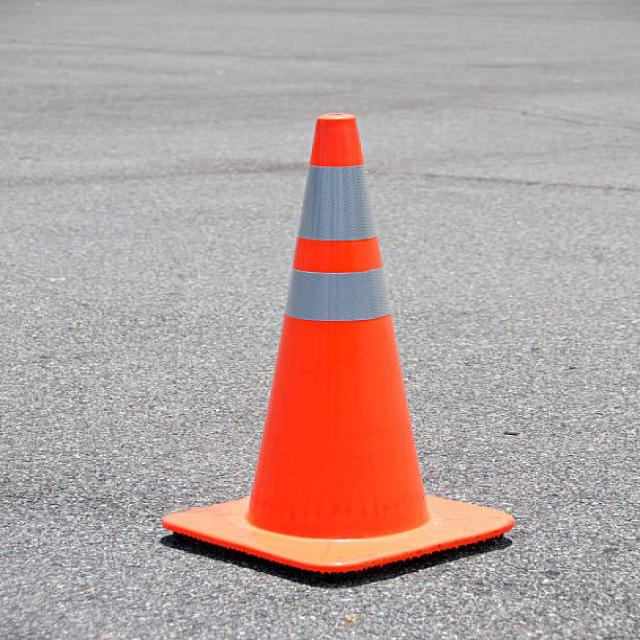Traffic Cone: (105, 82, 554, 615)
